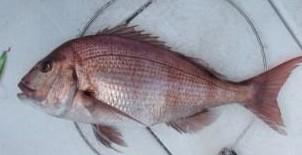fish: (18, 26, 301, 154)
